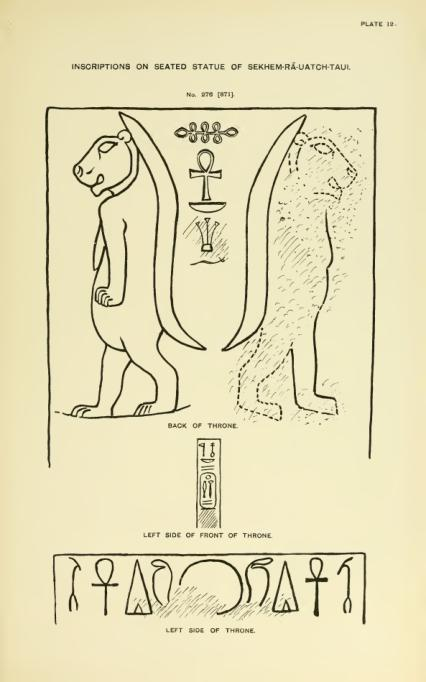circle: (198, 471, 219, 511)
